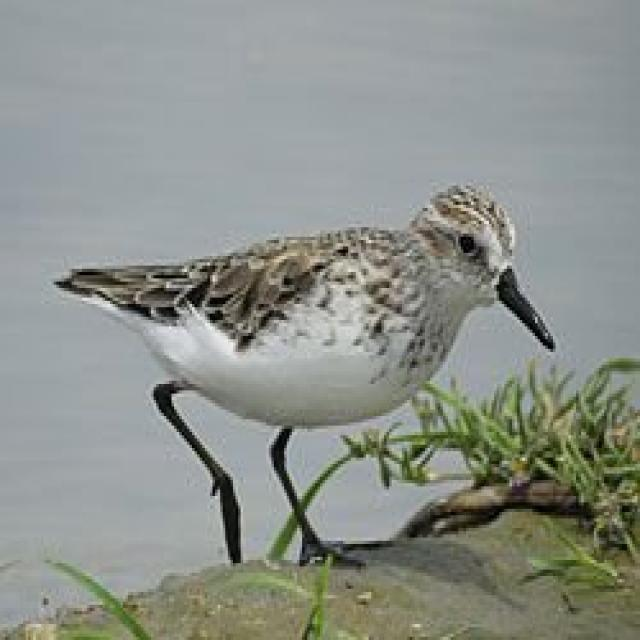Sandpiper: (51, 192, 555, 580)
